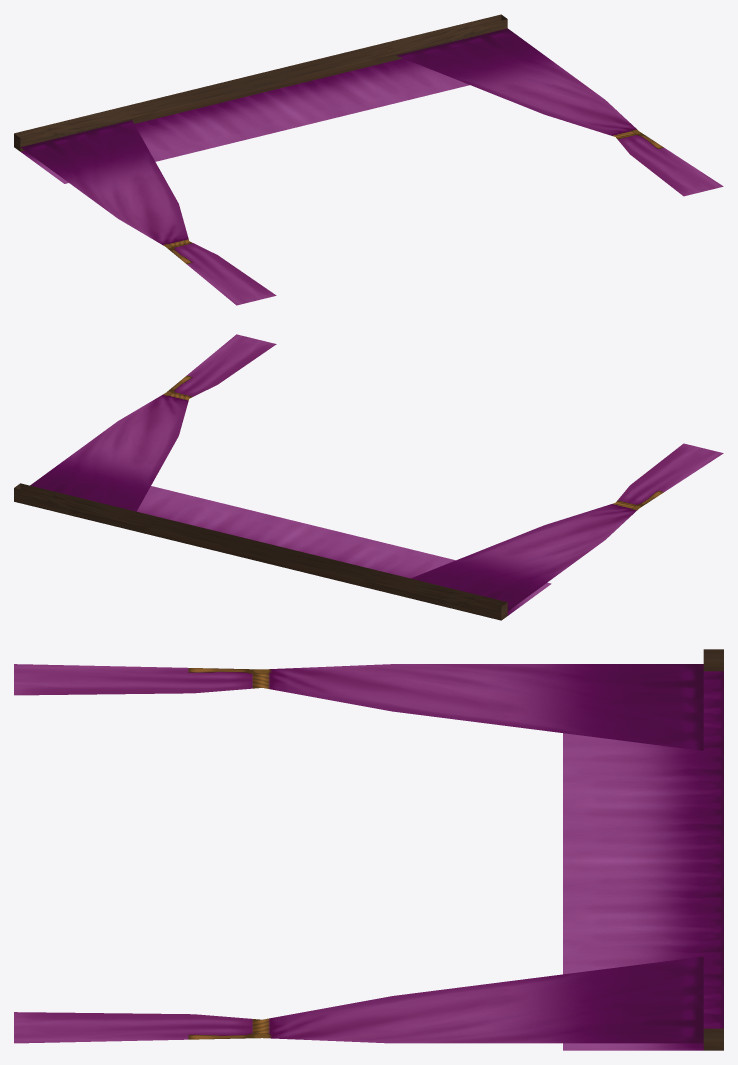
File: Tavern_interior_curtain.fbx
The picture shows the model from 3 angles, top to bottom: view 1: azimuth 30°, elevation 25°; view 2: azimuth 150°, elevation 25°; view 3: azimuth 270°, elevation 25°; orthographic projection. The views are drawn at different scales.
Visible parts, largest first — view 1: Tavern_interior_curtain; view 2: Tavern_interior_curtain; view 3: Tavern_interior_curtain.
Part boxes in pixels (<box>): Tavern_interior_curtain: <box>14,14,723,305</box>; Tavern_interior_curtain: <box>14,334,723,620</box>; Tavern_interior_curtain: <box>14,649,723,1050</box>.
Size of the model in its own units: 3.7 by 0.0998 by 2.93.
